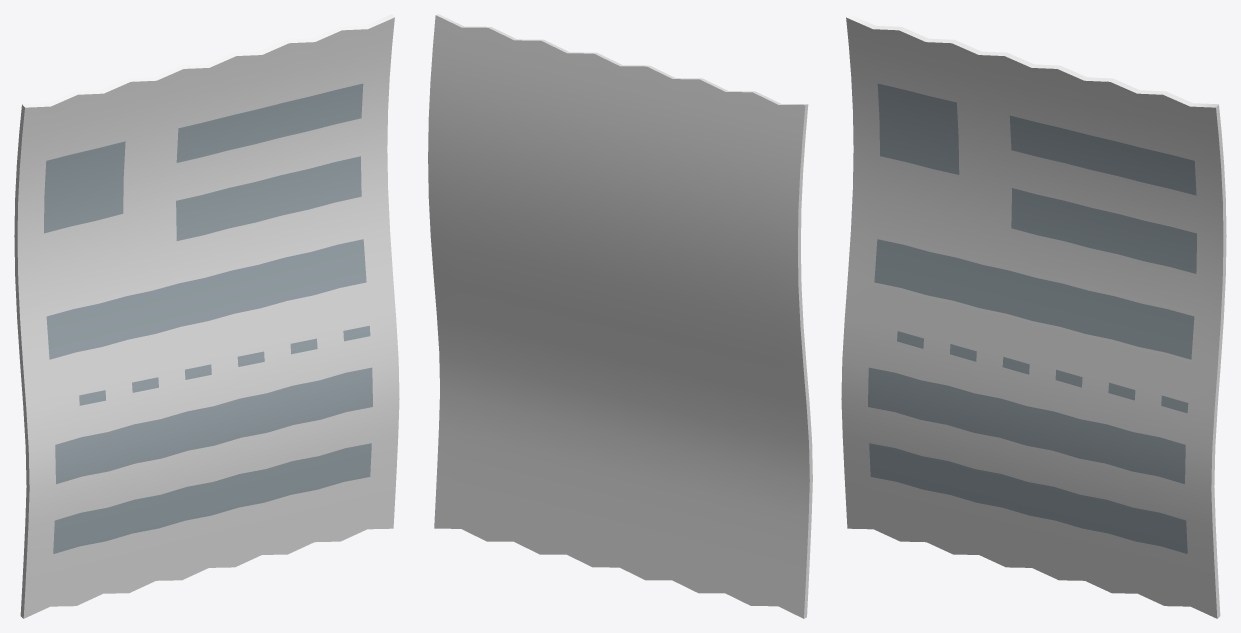
Rendered from receipt.glb.
3 views of the same model, side by side, from view 1: azimuth 30°, elevation 25°; view 2: azimuth 150°, elevation 25°; view 3: azimuth 330°, elevation 25° (orthographic).
Parts seen in each view (by area): view 1: Cube.961; view 2: Cube.961; view 3: Cube.961.
Boxes of the visible parts, left/top/right/bottom form: Cube.961: left=14, top=14, right=399, bottom=618; Cube.961: left=428, top=14, right=812, bottom=618; Cube.961: left=841, top=14, right=1226, bottom=618.
Size of the model in its own units: 1.77 by 2.34 by 0.126.
Materials: 1 (1 with a texture image).
